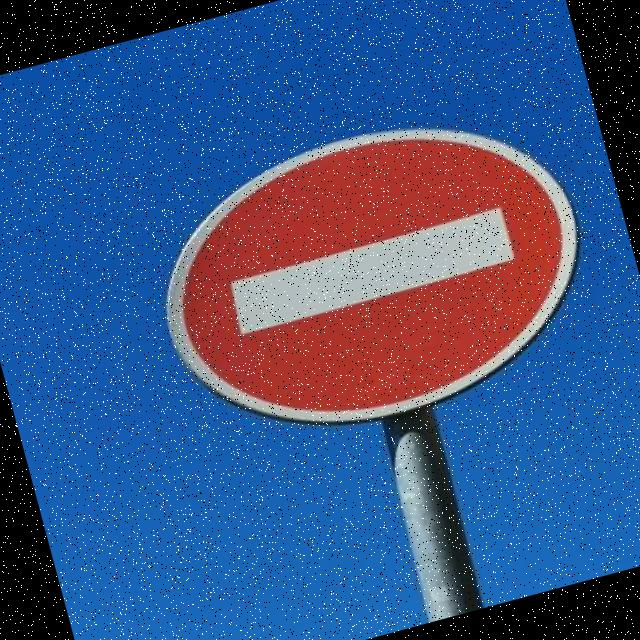do_not_enter: (125, 62, 640, 480)
